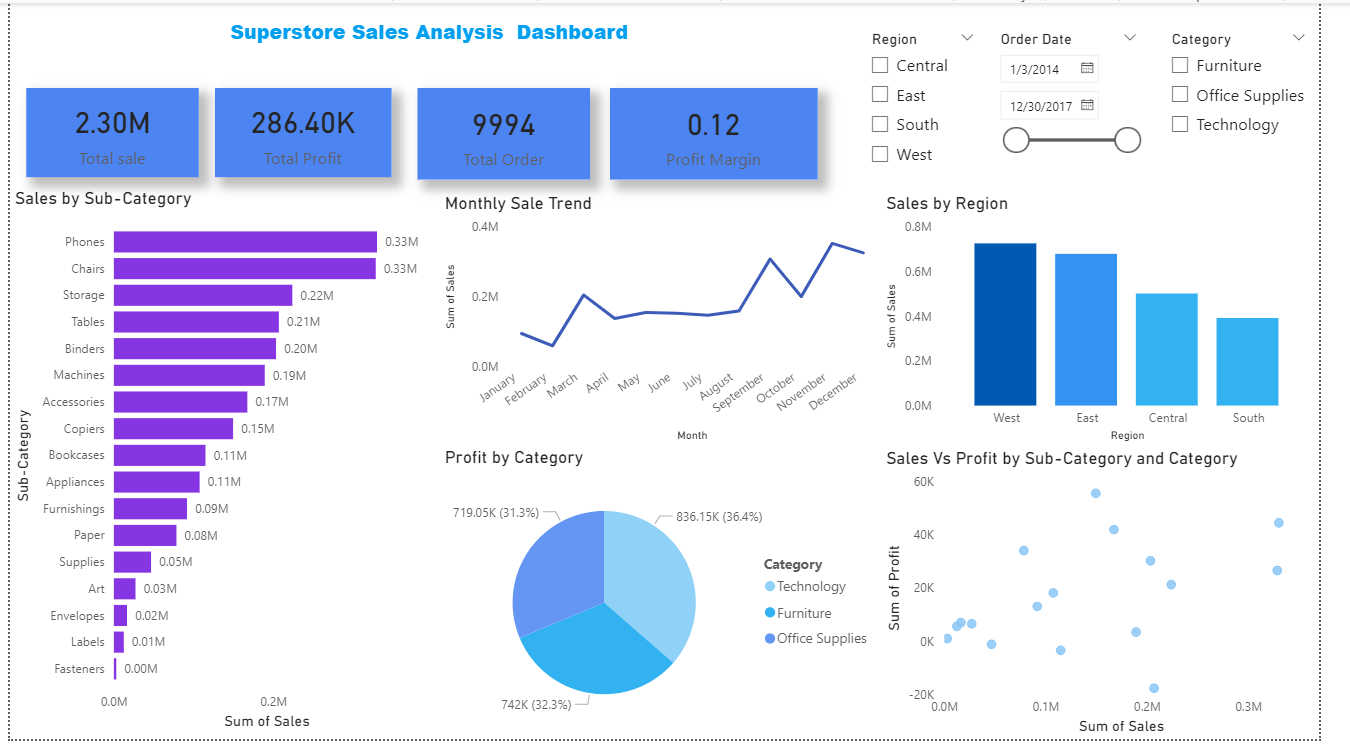

This screenshot's page, from the dashboard's own definition file:
{"tool":"powerbi","page":{"name":"Page 1","canvas":[1280,720],"ordinal":0},"visuals":[{"type":"columnChart","title":"Sales by Region","fields":{"Category":["Sample - Superstore.Region"],"Y":["Sum(Sample - Superstore.Sales)"]},"box":[852.3,186,427.9,247.9],"z":0},{"type":"card","fields":{"Values":["Sum(Sample - Superstore.Sales)"]},"box":[15.9,83.2,168.8,86.8],"z":1000},{"type":"card","fields":{"Values":["Sum(Sample - Superstore.Profit)"]},"box":[200.5,83.2,172.4,86.8],"z":2000},{"type":"card","fields":{"Values":["CountNonNull(Sample - Superstore.Order ID)"]},"box":[398.6,83.2,168.8,89.3],"z":3000},{"type":"lineChart","title":"Monthly Sale Trend","fields":{"Y":["Sum(Sample - Superstore.Sales)"],"Category":["Sample - Superstore.Order Date.Variation.Date Hierarchy.Month"]},"box":[420.8,186,431.5,247.9],"z":4000},{"type":"pieChart","title":"Profit by Category","fields":{"Category":["Sample - Superstore.Category"],"Y":["Sum(Sample - Superstore.Sales)"]},"box":[420.7,434.1,431.7,286.1],"z":5000},{"type":"barChart","title":"Sales by Sub-Category","fields":{"Category":["Sample - Superstore.Sub-Category"],"Y":["Sum(Sample - Superstore.Sales)"]},"box":[0,181,420.7,534.4],"z":6000},{"type":"slicer","fields":{"Values":["Sample - Superstore.Region"]},"box":[830.8,21.5,125.2,158.5],"z":7000},{"type":"slicer","fields":{"Values":["Sample - Superstore.Category"]},"box":[1124.1,21.5,156.2,158.5],"z":8000},{"type":"slicer","fields":{"Values":["Sample - Superstore.Order Date"]},"box":[956,21.5,158.5,158.5],"z":9000},{"type":"textbox","box":[303.3,22,385.2,41.6],"z":10000},{"type":"card","fields":{"Values":["Sample - Superstore.Profit Margin"]},"box":[587,83.2,203,89.3],"z":11000},{"type":"scatterChart","title":"Sales Vs Profit  by Sub-Category and Category","fields":{"X":["Sum(Sample - Superstore.Sales)"],"Y":["Sum(Sample - Superstore.Profit)"],"Category":["Sample - Superstore.Sub-Category"]},"box":[852.3,435.3,428,284.9],"z":12000}]}

Visuals, with their boxes in screenshot pixels (x1, y1, x2, y2), scaled from the page's 1280x720 canvas onto the 1350x748 screenshot:
"Sales by Region" columnChart: (899,193,1349,451)
card - Sum(Sample - Superstore.Sales): (17,86,195,177)
card - Sum(Sample - Superstore.Profit): (211,86,393,177)
card - CountNonNull(Sample - Superstore.Order ID): (420,86,598,179)
"Monthly Sale Trend" lineChart: (444,193,899,451)
"Profit by Category" pieChart: (444,451,899,747)
"Sales by Sub-Category" barChart: (0,188,444,743)
slicer - Sample - Superstore.Region: (876,22,1008,187)
slicer - Sample - Superstore.Category: (1186,22,1349,187)
slicer - Sample - Superstore.Order Date: (1008,22,1175,187)
textbox: (320,23,726,66)
card - Sample - Superstore.Profit Margin: (619,86,833,179)
"Sales Vs Profit  by Sub-Category and Category" scatterChart: (899,452,1349,747)
